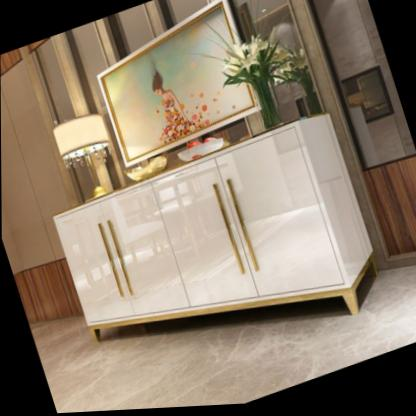Ceramic floor: (28, 268, 416, 414)
Sideboard: (52, 116, 376, 342)
